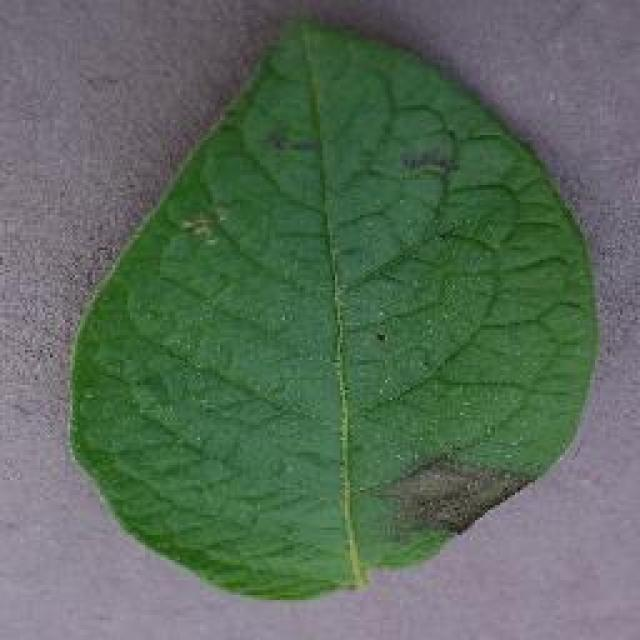late_blight: (62, 13, 602, 605)
